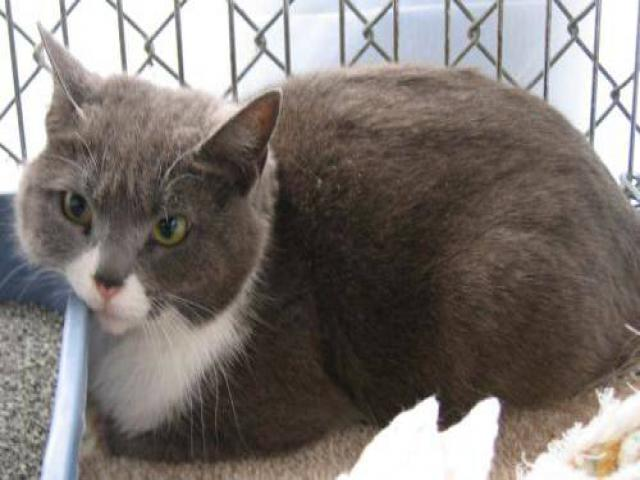cat: (12, 34, 635, 475)
